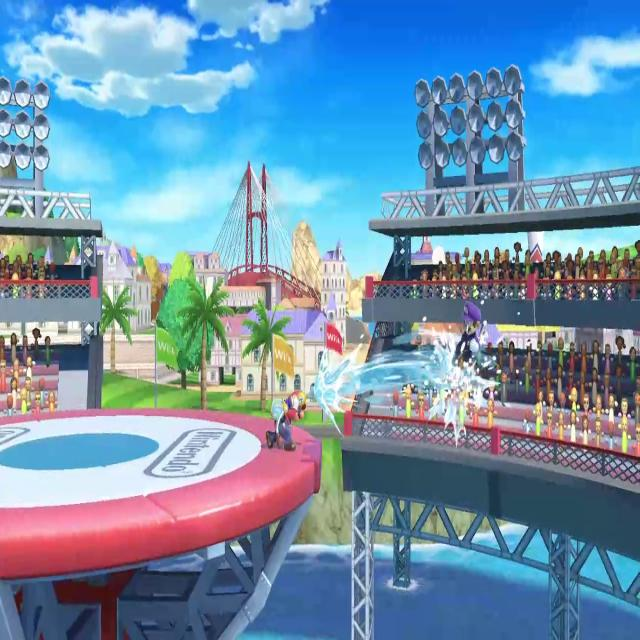Mario: (446, 298, 486, 376)
Mario-DB: (264, 383, 322, 454)
